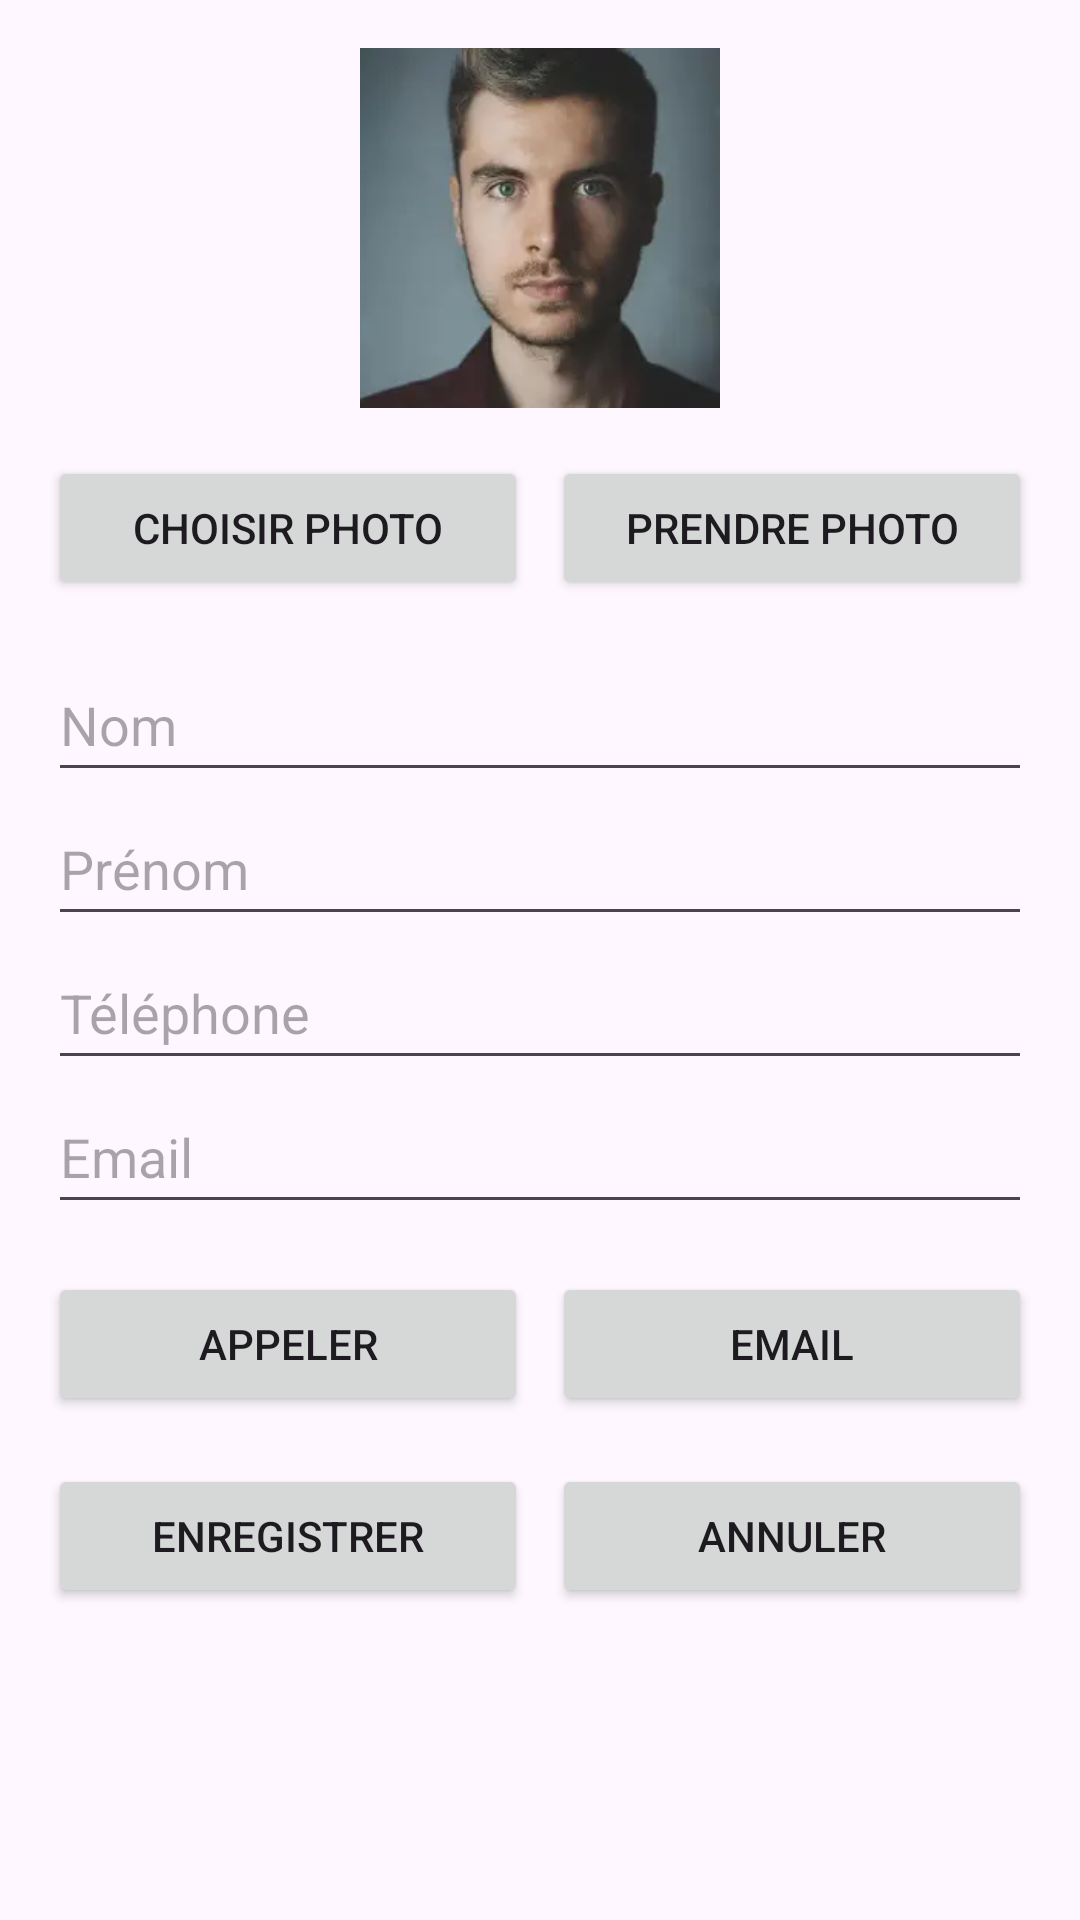

Screen size 1080*1920. Icon name, then its center in pixels as point (x, y):
Photo du contact: point (540, 228)
